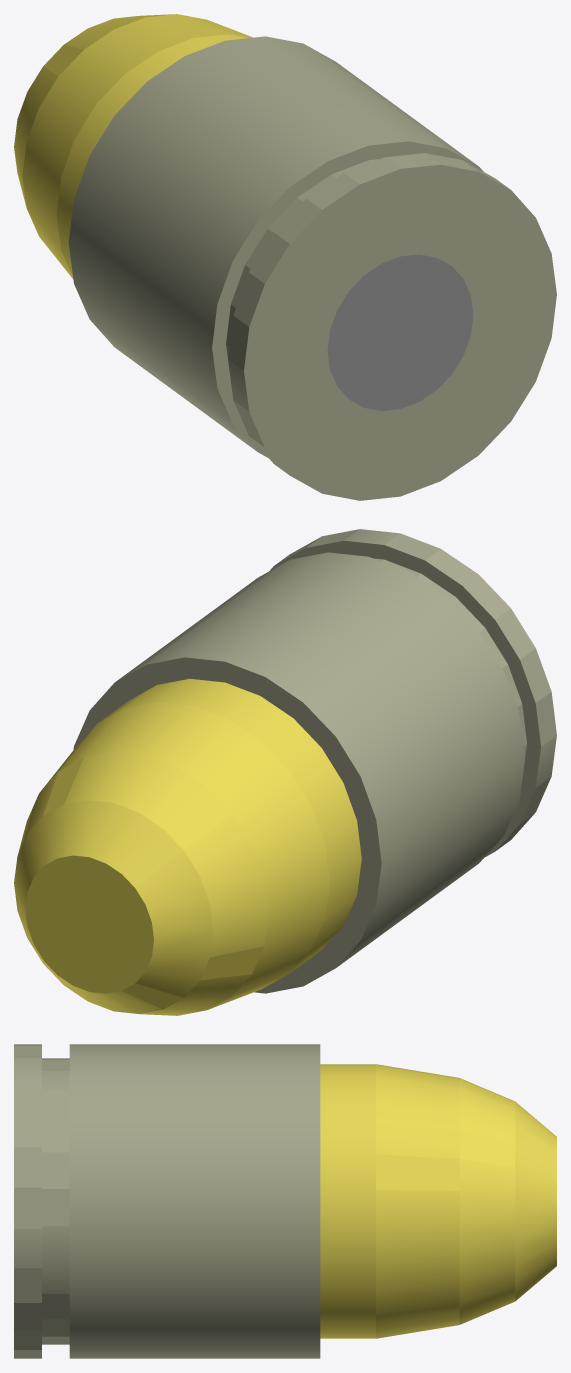
The model's file is ammo_machinegunlauncher.fbx.
3 views of the same model, one above another, from view 1: azimuth 30°, elevation 25°; view 2: azimuth 150°, elevation 25°; view 3: azimuth 270°, elevation 25° (orthographic). The views are drawn at different scales.
Parts seen in each view (by area): view 1: imagetostl_mesh321, imagetostl_mesh297, imagetostl_mesh125, imagetostl_mesh126, imagetostl_mesh124, imagetostl_mesh127, imagetostl_mesh123, imagetostl_mesh128, imagetostl_mesh122, imagetostl_mesh129, imagetostl_mesh155, imagetostl_mesh130 (+46 smaller); view 2: imagetostl_mesh85, imagetostl_mesh125, imagetostl_mesh126, imagetostl_mesh124, imagetostl_mesh127, imagetostl_mesh123, imagetostl_mesh128, imagetostl_mesh122, imagetostl_mesh129, imagetostl_mesh155, imagetostl_mesh130, imagetostl_mesh65 (+65 smaller); view 3: imagetostl_mesh323, imagetostl_mesh132, imagetostl_mesh131, imagetostl_mesh216, imagetostl_mesh130, imagetostl_mesh215, imagetostl_mesh129, imagetostl_mesh214, imagetostl_mesh23, imagetostl_mesh128, imagetostl_mesh25, imagetostl_mesh72 (+56 smaller).
Boxes of the visible parts, x1=… form: imagetostl_mesh321: x1=322, y1=172, x2=535, y2=454; imagetostl_mesh297: x1=265, y1=173, x2=359, y2=493; imagetostl_mesh125: x1=90, y1=116, x2=257, y2=260; imagetostl_mesh126: x1=114, y1=82, x2=289, y2=220; imagetostl_mesh124: x1=74, y1=156, x2=232, y2=303; imagetostl_mesh127: x1=147, y1=56, x2=327, y2=186; imagetostl_mesh123: x1=68, y1=199, x2=217, y2=347; imagetostl_mesh128: x1=185, y1=41, x2=368, y2=160; imagetostl_mesh122: x1=68, y1=243, x2=217, y2=388; imagetostl_mesh129: x1=225, y1=36, x2=408, y2=145; imagetostl_mesh155: x1=74, y1=284, x2=232, y2=423; imagetostl_mesh130: x1=266, y1=36, x2=445, y2=148; imagetostl_mesh85: x1=25, y1=855, x2=153, y2=993; imagetostl_mesh125: x1=336, y1=632, x2=503, y2=776; imagetostl_mesh126: x1=303, y1=598, x2=478, y2=736; imagetostl_mesh124: x1=361, y1=672, x2=519, y2=819; imagetostl_mesh127: x1=266, y1=572, x2=446, y2=702; imagetostl_mesh123: x1=376, y1=715, x2=524, y2=863; imagetostl_mesh128: x1=225, y1=556, x2=408, y2=676; imagetostl_mesh122: x1=376, y1=759, x2=524, y2=904; imagetostl_mesh129: x1=185, y1=552, x2=367, y2=661; imagetostl_mesh155: x1=361, y1=800, x2=519, y2=939; imagetostl_mesh130: x1=147, y1=552, x2=327, y2=664; imagetostl_mesh65: x1=232, y1=771, x2=311, y2=844; imagetostl_mesh323: x1=69, y1=1187, x2=320, y2=1268; imagetostl_mesh132: x1=69, y1=1147, x2=320, y2=1187; imagetostl_mesh131: x1=69, y1=1111, x2=320, y2=1147; imagetostl_mesh216: x1=69, y1=1268, x2=320, y2=1302; imagetostl_mesh130: x1=69, y1=1080, x2=320, y2=1110; imagetostl_mesh215: x1=69, y1=1303, x2=320, y2=1330; imagetostl_mesh129: x1=69, y1=1058, x2=320, y2=1080; imagetostl_mesh214: x1=69, y1=1331, x2=320, y2=1349; imagetostl_mesh23: x1=320, y1=1122, x2=375, y2=1189; imagetostl_mesh128: x1=69, y1=1046, x2=320, y2=1058; imagetostl_mesh25: x1=376, y1=1189, x2=459, y2=1225; imagetostl_mesh72: x1=376, y1=1154, x2=459, y2=1190.
Size of the model in its own units: 0.6804 by 0.6804 by 1.17.
